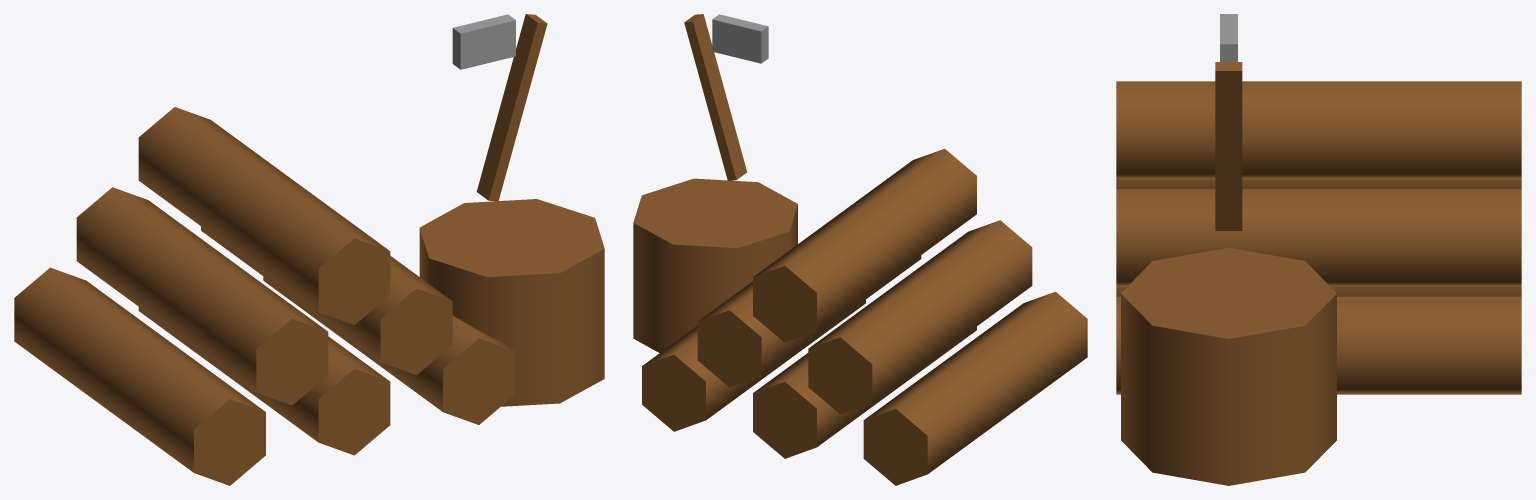
The model's file is woodpile.glb.
The picture shows the model from 3 angles, left to right: view 1: azimuth 30°, elevation 25°; view 2: azimuth 150°, elevation 25°; view 3: azimuth 270°, elevation 25°; orthographic projection. The views are drawn at different scales.
Parts seen in each view (by area): view 1: woodpile, axe; view 2: woodpile, axe; view 3: woodpile, axe.
Part boxes in pixels (x1,y1,x2,y2): woodpile: (14,107,604,485); axe: (452,14,547,201); woodpile: (633,148,1087,485); axe: (684,14,768,180); woodpile: (1116,81,1521,485); axe: (1215,14,1242,230).
Bounding box in the file's own units: 0.652 × 0.485 × 0.45.
